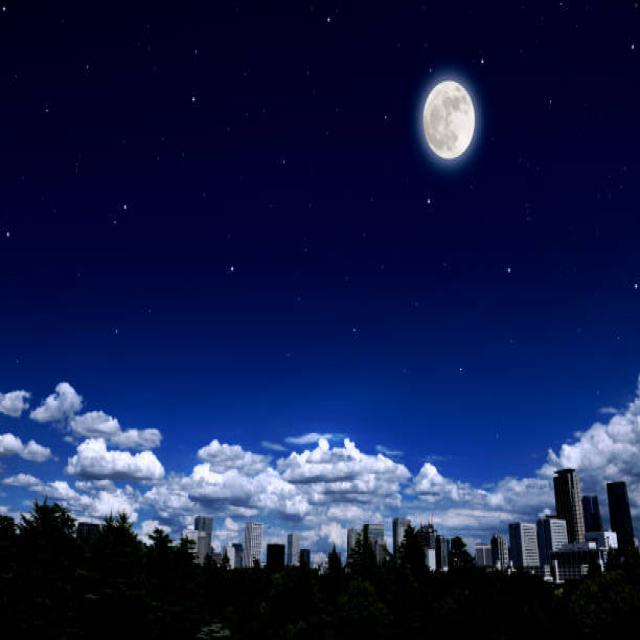moon: (417, 80, 473, 158)
